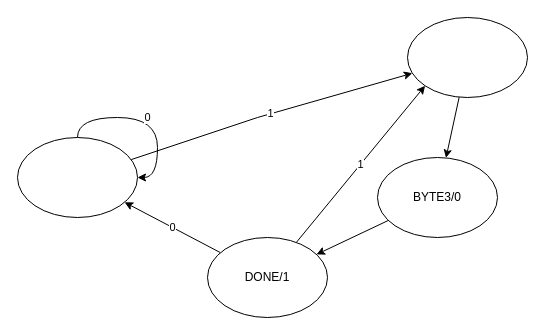
Some shapes in this 545 by 335 pixel diagram are drawn without their labels. The shapes that lost their labels are listed below. From the top down, each one's box as (x1, y1, x2, y2) in pixels, then its label:
(406, 16, 528, 98): BYTE2/0
(16, 136, 138, 218): BYTE1/0
